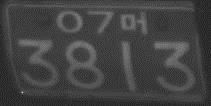0: (55, 8, 84, 34)
1: (113, 39, 145, 91)
3: (153, 40, 196, 93), (16, 37, 58, 89)
7: (86, 10, 114, 35)
8: (63, 39, 106, 91)
머: (119, 11, 148, 36)
